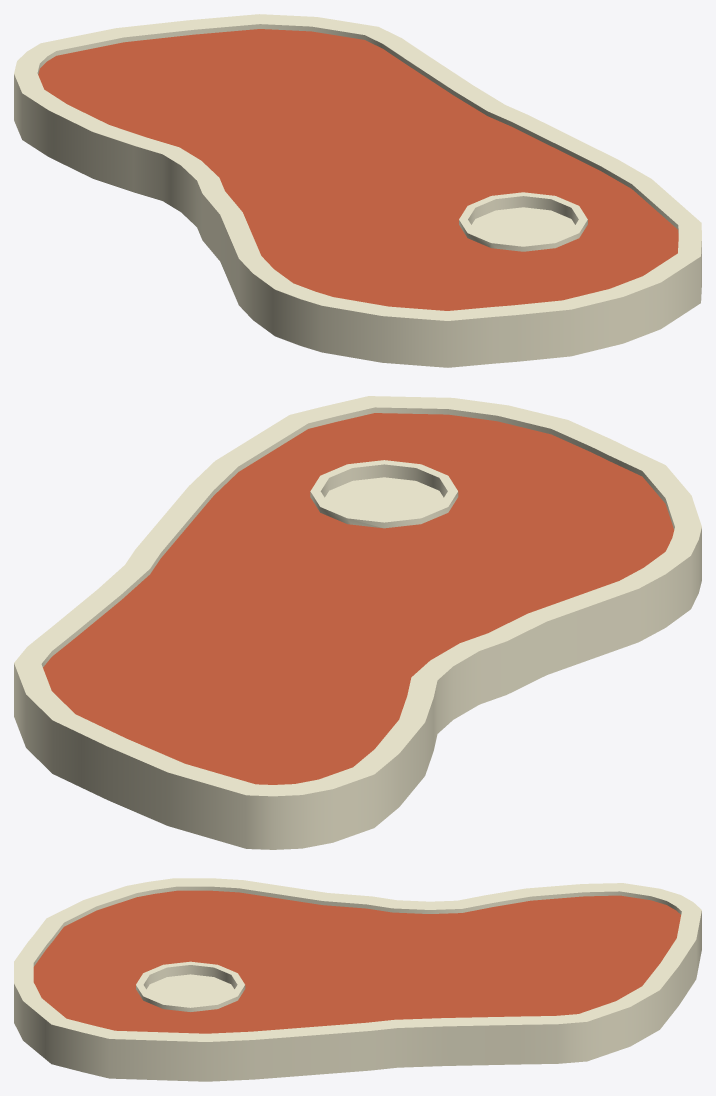
File: Stejk.fbx
3 renders of one model, top to bottom at view 1: azimuth 30°, elevation 25°; view 2: azimuth 150°, elevation 25°; view 3: azimuth 270°, elevation 25°, orthographic. The views are drawn at different scales.
Parts seen in each view (by area): view 1: Stejk; view 2: Stejk; view 3: Stejk.
Part boxes in pixels (x1,y1,x2,y2): Stejk: [14, 14, 701, 367]; Stejk: [14, 396, 701, 849]; Stejk: [14, 878, 701, 1081].
Size of the model in its own units: 355 by 40.19 by 629.
